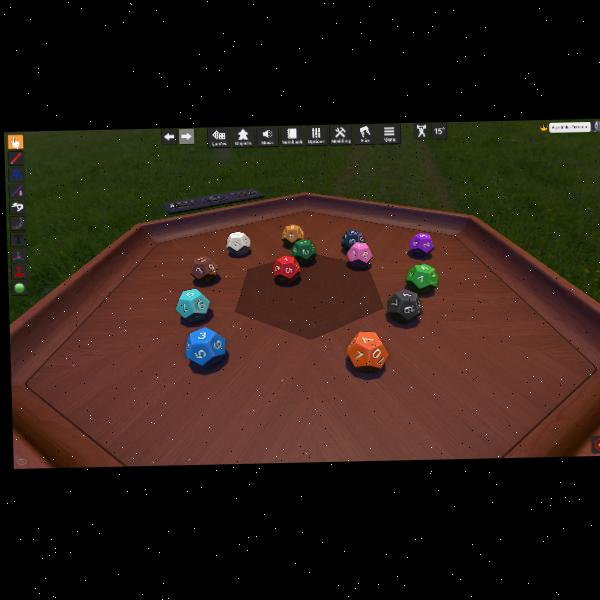d12: (346, 330, 388, 373), (185, 326, 228, 367), (387, 287, 423, 323), (176, 288, 212, 322), (406, 263, 439, 294), (189, 255, 219, 284), (273, 254, 302, 283), (346, 240, 373, 268), (290, 238, 317, 265), (408, 232, 435, 258), (227, 231, 252, 255), (341, 230, 366, 253), (282, 224, 304, 245)
